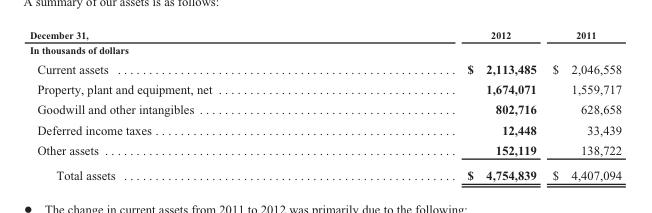table: (28, 28, 621, 181)
table column: (28, 28, 338, 181), (338, 28, 543, 181), (543, 28, 621, 181)
table column header: (28, 28, 621, 41)
table projected row header: (28, 41, 621, 58)
table row: (28, 139, 621, 162), (28, 78, 621, 99), (28, 58, 621, 78), (28, 99, 621, 119), (28, 119, 621, 139), (28, 162, 621, 181), (28, 41, 621, 58), (28, 28, 621, 41)
